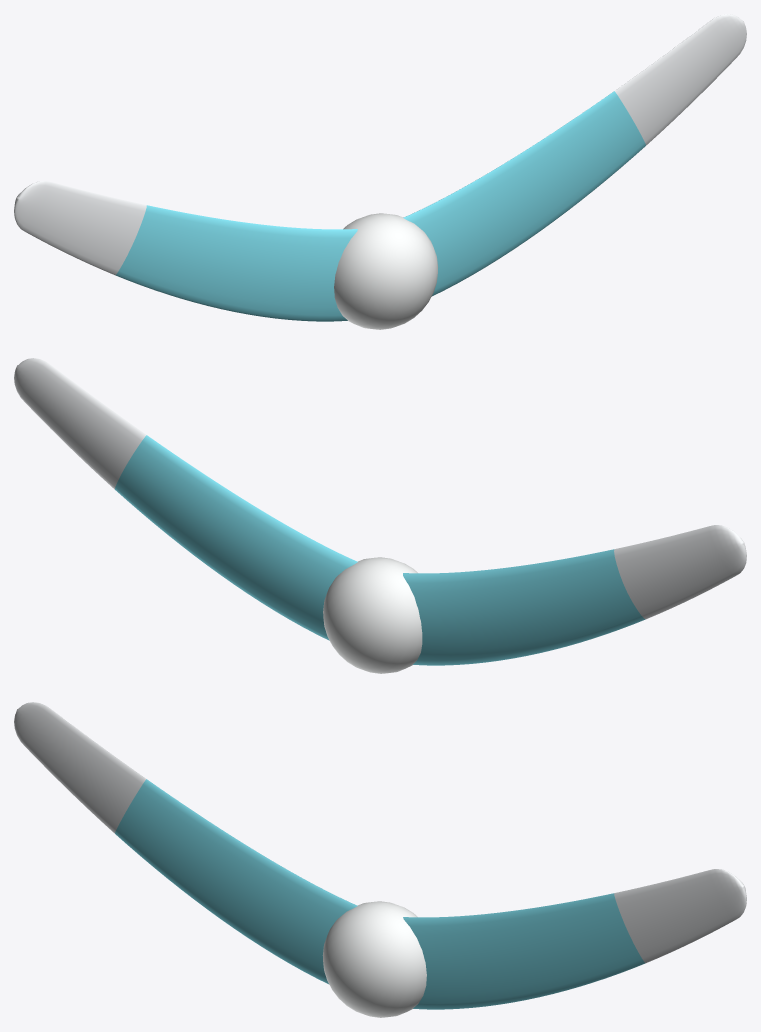
The model's file is Boomerang_FrozenShard.fbx.
3 renders of one model, top to bottom at view 1: azimuth 30°, elevation 25°; view 2: azimuth 150°, elevation 25°; view 3: azimuth 330°, elevation 25°, orthographic.
Visible parts, largest first — view 1: Boomerang_FrozenShard; view 2: Boomerang_FrozenShard; view 3: Boomerang_FrozenShard.
Part boxes in pixels (x1=…): Boomerang_FrozenShard: x1=14, y1=14, x2=746, y2=329; Boomerang_FrozenShard: x1=14, y1=358, x2=746, y2=673; Boomerang_FrozenShard: x1=14, y1=702, x2=746, y2=1017.
Size of the model in its own units: 1.97 by 0.5843 by 0.2484.
